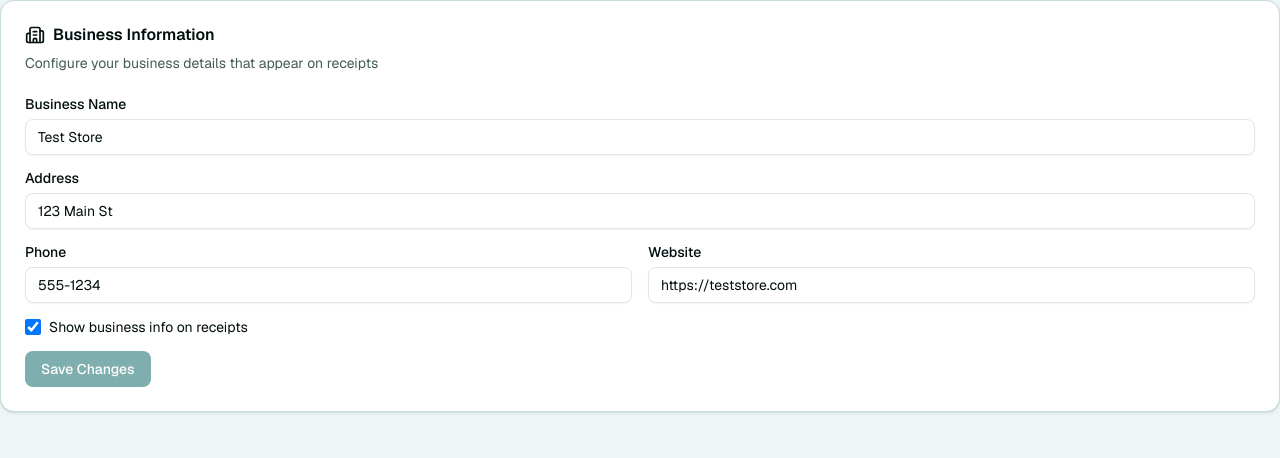
Scenario: Settings Forms › BusinessInfoForm › should show validation error for empty business name
Step 1. Clear the field labelled "Business Name" → (640, 137), box [25,119,1255,155]
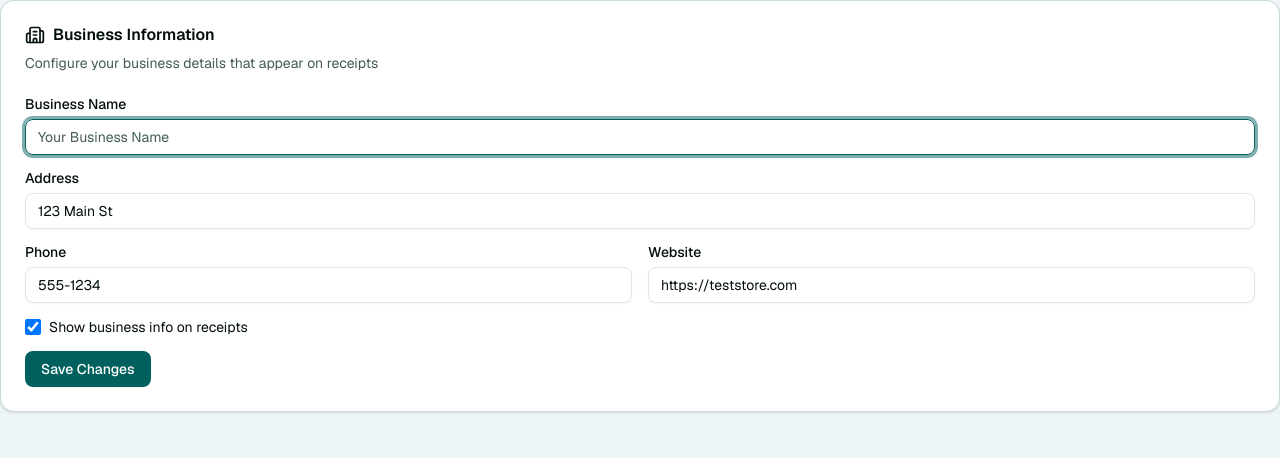
Step 2. Click the button "Save Changes" → (88, 369), box [25,351,151,387]
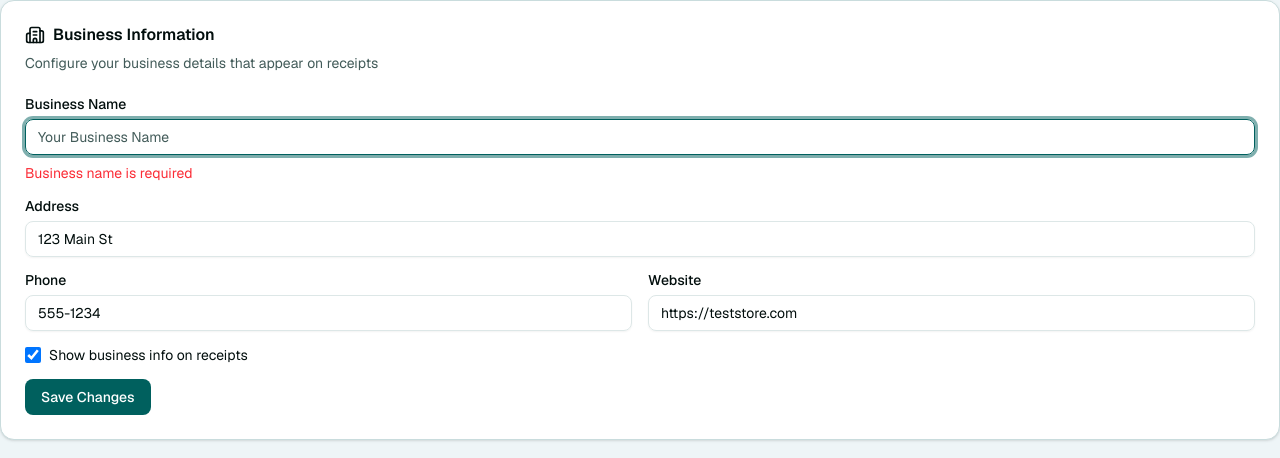
Now the text "Business name is required" is shown, box [25,164,193,182]
